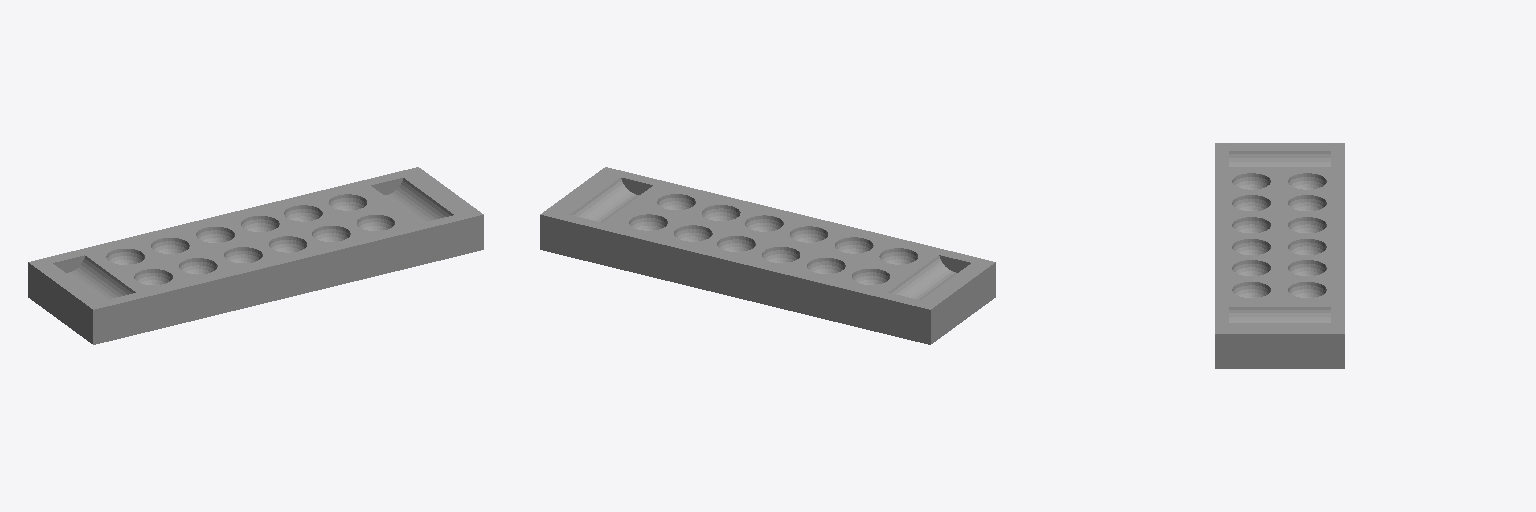
Rendered from board.obj.
The picture shows the model from 3 angles: view 1: azimuth 30°, elevation 25°; view 2: azimuth 150°, elevation 25°; view 3: azimuth 270°, elevation 25°; orthographic projection.
Visible parts, largest first — view 1: Cube; view 2: Cube; view 3: Cube.
Part boxes in pixels (bbox=[...]): Cube: bbox=[28, 167, 483, 344]; Cube: bbox=[540, 167, 995, 344]; Cube: bbox=[1215, 143, 1344, 368].
Bounding box in the file's own units: 23.17 × 2 × 6.72.